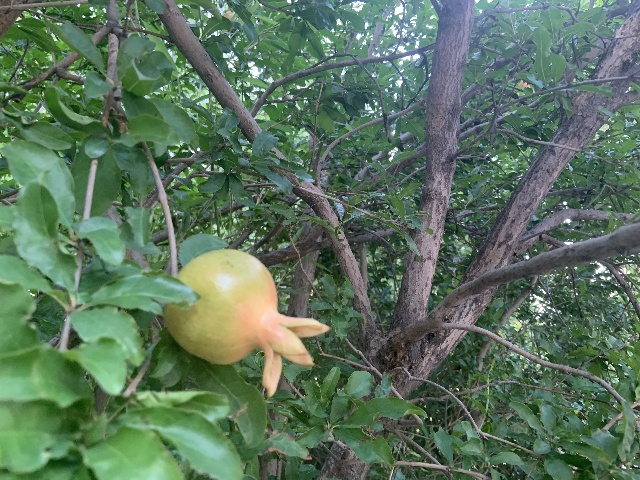mid-growth: (165, 249, 329, 400)
